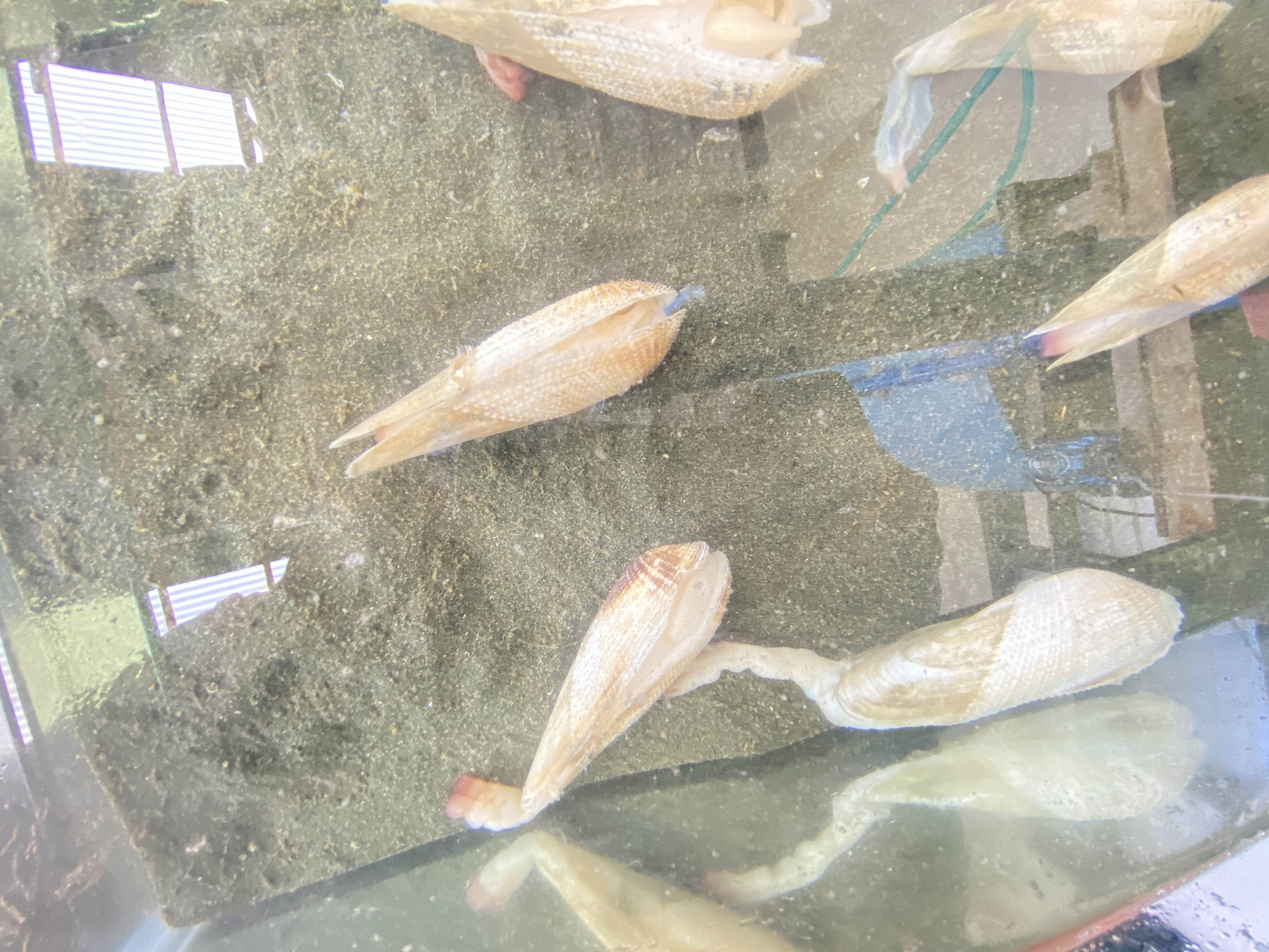At risk: (447, 542, 1181, 830), (330, 280, 689, 477), (875, 0, 1231, 197), (384, 0, 828, 119), (1029, 174, 1269, 368)
